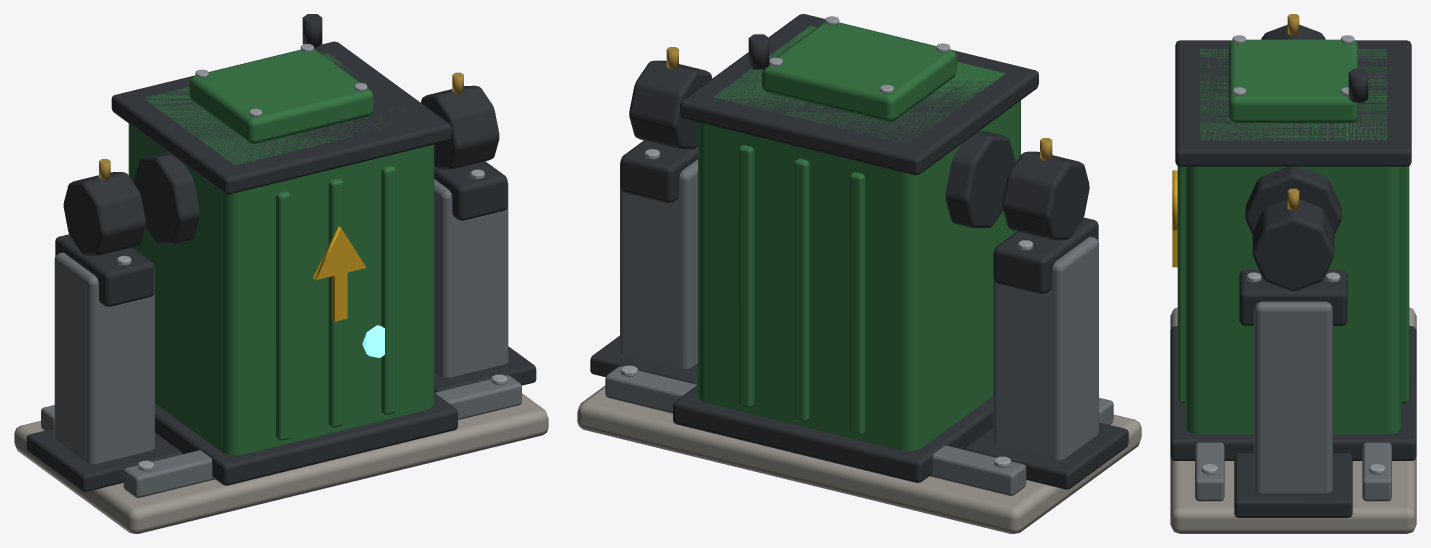
The model's file is pp_stepup.glb.
The picture shows the model from 3 angles, left to right: view 1: azimuth 30°, elevation 25°; view 2: azimuth 150°, elevation 25°; view 3: azimuth 270°, elevation 25°; orthographic projection. The views are drawn at different scales.
Visible parts, largest first — view 1: block.004, block.009, block.011, block.001, block.014, block.010, block.008, cyl.004, block.002, cyl.002, cyl.006, block.005 (+9 smaller); view 2: block.004, block.009, block.011, block.001, block.014, block.010, block.008, cyl.004, block.003, cyl.002, cyl.006, block.005 (+7 smaller); view 3: block.004, block.009, block.014, block.010, block.001, cyl.006, block.008, block.015, block.007, cyl.003, block.016, block.002 (+4 smaller).
Part boxes in pixels (x1=…): block.004: x1=128, y1=53, x2=434, y2=455; block.009: x1=111, y1=41, x2=451, y2=194; block.011: x1=54, y1=252, x2=154, y2=463; block.001: x1=14, y1=393, x2=548, y2=533; block.014: x1=434, y1=179, x2=508, y2=377; block.010: x1=189, y1=49, x2=373, y2=143; block.008: x1=155, y1=393, x2=457, y2=485; cyl.004: x1=63, y1=172, x2=145, y2=255; block.002: x1=123, y1=375, x2=521, y2=497; cyl.002: x1=133, y1=152, x2=199, y2=244; cyl.006: x1=421, y1=85, x2=499, y2=169; block.005: x1=276, y1=191, x2=290, y2=440; block.004: x1=698, y1=26, x2=1020, y2=450; block.009: x1=680, y1=14, x2=1038, y2=175; block.011: x1=993, y1=236, x2=1098, y2=459; block.001: x1=577, y1=385, x2=1141, y2=533; block.014: x1=620, y1=159, x2=697, y2=368; block.010: x1=762, y1=22, x2=956, y2=121; block.008: x1=673, y1=385, x2=992, y2=482; cyl.004: x1=1002, y1=151, x2=1089, y2=240; block.003: x1=605, y1=366, x2=1026, y2=495; cyl.002: x1=945, y1=131, x2=1015, y2=228; cyl.006: x1=629, y1=60, x2=712, y2=149; block.005: x1=849, y1=172, x2=865, y2=435; block.004: x1=1185, y1=49, x2=1401, y2=434; block.009: x1=1175, y1=40, x2=1411, y2=166; block.014: x1=1254, y1=301, x2=1332, y2=493; block.010: x1=1228, y1=39, x2=1358, y2=122; block.001: x1=1170, y1=307, x2=1416, y2=533; cyl.006: x1=1252, y1=199, x2=1334, y2=291; block.008: x1=1170, y1=326, x2=1416, y2=460; block.015: x1=1234, y1=453, x2=1352, y2=517; block.007: x1=1177, y1=166, x2=1409, y2=403; cyl.003: x1=1245, y1=166, x2=1341, y2=234; block.016: x1=1239, y1=270, x2=1347, y2=325; block.002: x1=1195, y1=442, x2=1224, y2=501.
Size of the model in its own units: 1.08 by 0.88 by 0.5.
